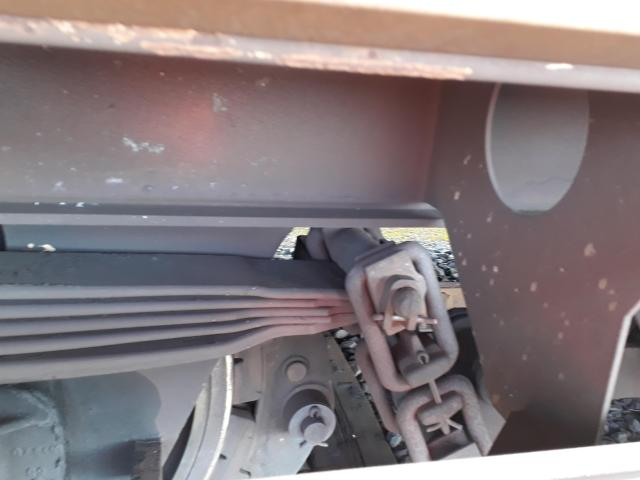blattfederww: (1, 253, 334, 384)
